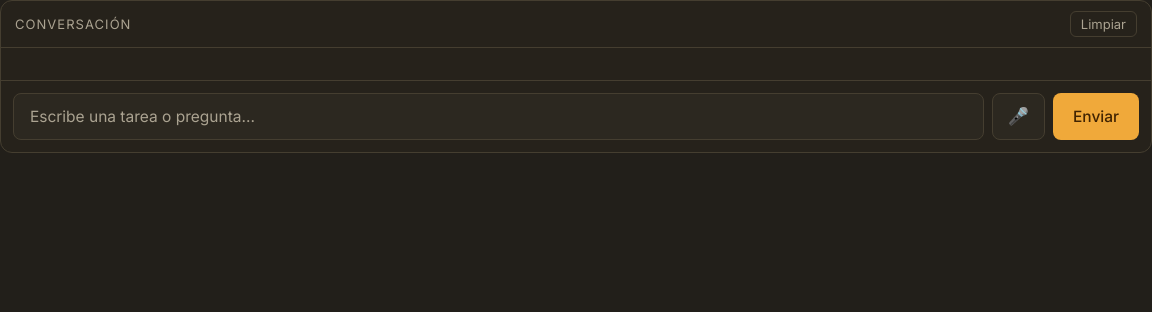
ChatWindow › muestra "Pensando..." mientras la respuesta esta vacia (turnos que solo ejecutan herramientas)
Type "algo" into the field with placeholder "Escribe una tarea o pregunta...".
click(498, 116); type("algo")  # box [13, 93, 984, 140]
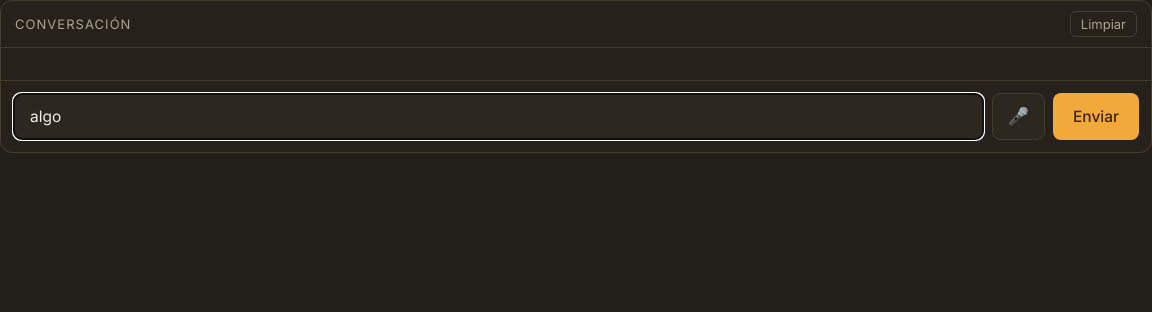
Click the button "Enviar".
click(1096, 116)  # box [1053, 93, 1139, 140]
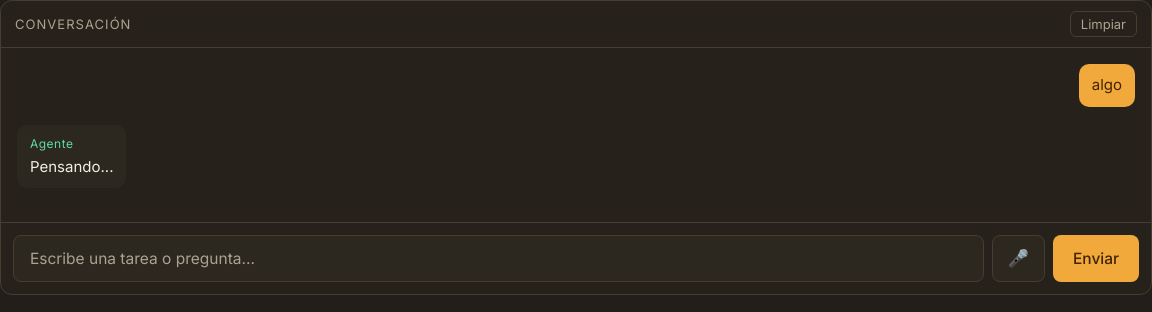
expect the text "Pensando..." is shown: met, box [30, 156, 114, 176]
